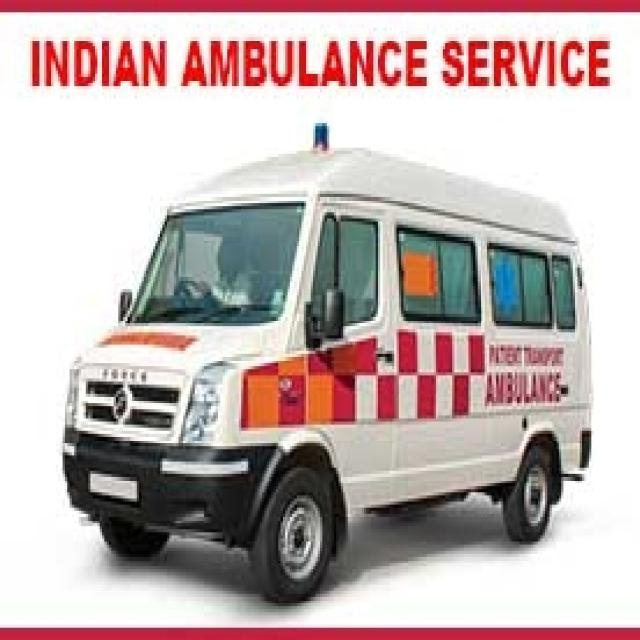Ambulance: (52, 98, 601, 583)
